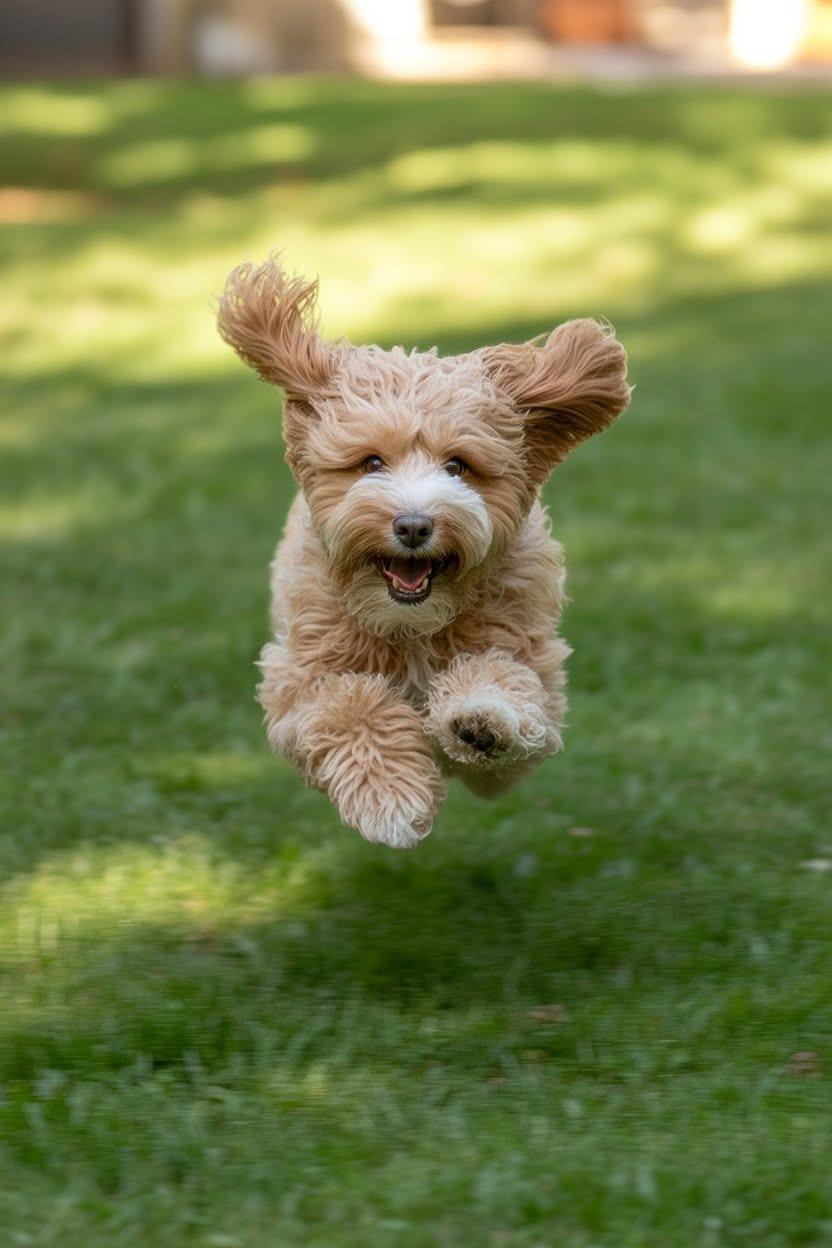puppy-dog: (211, 250, 641, 851)
